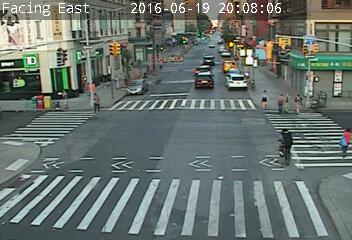neg: (131, 87, 150, 112), (173, 54, 184, 68), (191, 76, 202, 90), (153, 75, 163, 88)
pos: (55, 87, 76, 114), (254, 87, 273, 113), (88, 91, 106, 115)
